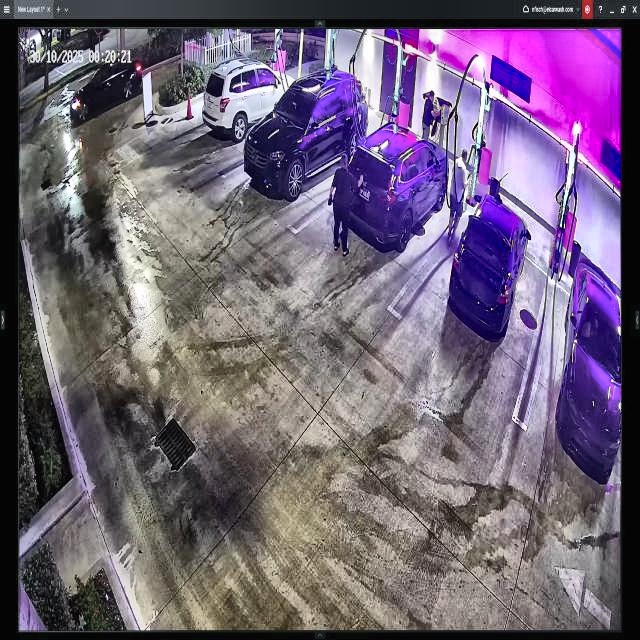Car: (245, 71, 369, 198), (344, 125, 450, 249), (446, 196, 530, 337), (203, 54, 297, 146)
